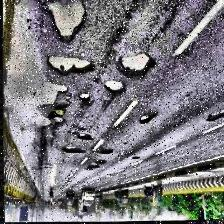pothole: (41, 0, 86, 46), (114, 50, 158, 82), (46, 55, 94, 78), (102, 78, 125, 96), (206, 106, 224, 122), (62, 146, 84, 154), (76, 132, 92, 142), (139, 114, 152, 125), (78, 94, 90, 102), (100, 148, 112, 156)
